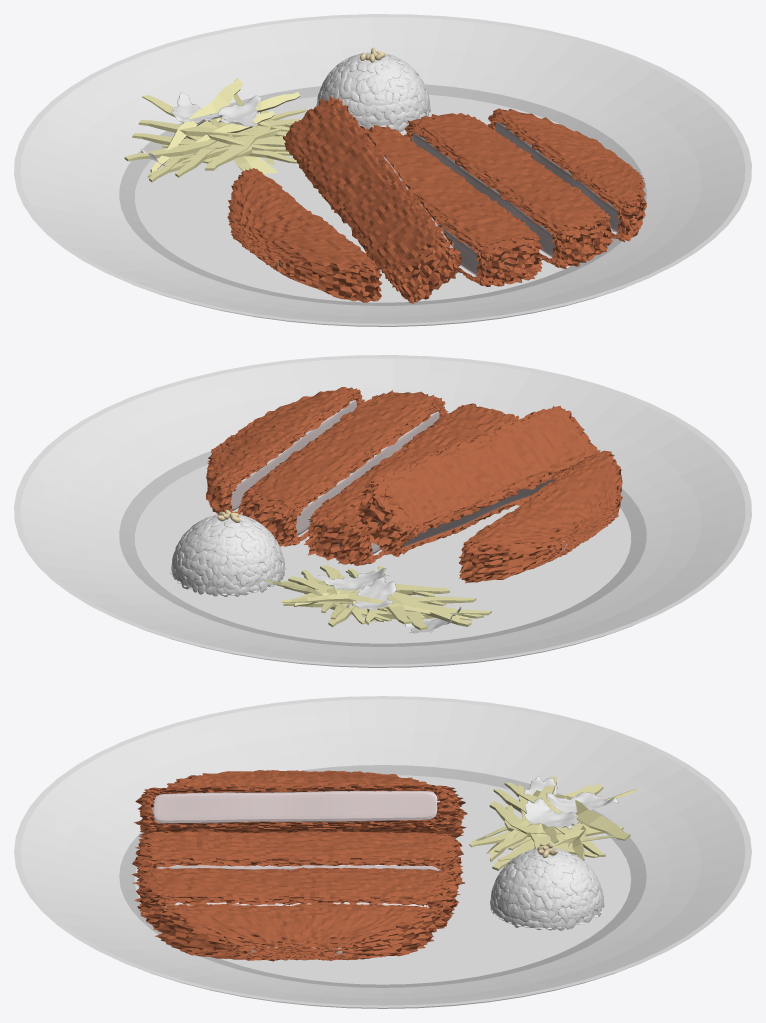
Rendered from Tonkatsu.fbx.
3 views of the same model, one above another, from view 1: azimuth 30°, elevation 25°; view 2: azimuth 150°, elevation 25°; view 3: azimuth 270°, elevation 25° (orthographic).
Parts seen in each view (by area): view 1: 원형.055, 큐브, 큐브.005, 큐브.010, 큐브.004, 큐브.009, 양파.017, 양파.016, 큐브.006, 큐브.007, 양파.018, 구체 (+3 smaller); view 2: 원형.055, 큐브, 큐브.010, 큐브.005, 큐브.004, 큐브.009, 양파.017, 큐브.006, 큐브.007, 양파.018, 구체, 큐브.001 (+2 smaller); view 3: 원형.055, 큐브.009, 큐브.005, 큐브.004, 큐브.001, 큐브, 양파.017, 큐브.010, 양파.016, 양파.018, 구체, 큐브.003 (+2 smaller).
Part boxes in pixels (left/top/right/bottom): 원형.055: left=14, top=14, right=751, bottom=326; 큐브: left=283, top=95, right=461, bottom=303; 큐브.005: left=404, top=113, right=612, bottom=268; 큐브.010: left=227, top=168, right=382, bottom=302; 큐브.004: left=366, top=125, right=543, bottom=286; 큐브.009: left=487, top=108, right=646, bottom=242; 양파.017: left=124, top=78, right=302, bottom=182; 양파.016: left=162, top=110, right=296, bottom=170; 큐브.006: left=412, top=133, right=554, bottom=256; 큐브.007: left=495, top=122, right=619, bottom=232; 양파.018: left=182, top=92, right=305, bottom=164; 구체: left=318, top=53, right=426, bottom=126; 원형.055: left=14, top=355, right=751, bottom=667; 큐브: left=347, top=406, right=600, bottom=556; 큐브.010: left=458, top=450, right=622, bottom=583; 큐브.005: left=239, top=390, right=448, bottom=546; 큐브.004: left=304, top=403, right=519, bottom=565; 큐브.009: left=206, top=387, right=364, bottom=514; 양파.017: left=279, top=565, right=491, bottom=630; 큐브.006: left=295, top=411, right=439, bottom=535; 큐브.007: left=230, top=400, right=356, bottom=510; 양파.018: left=266, top=569, right=391, bottom=624; 구체: left=172, top=517, right=281, bottom=591; 큐브.001: left=377, top=478, right=555, bottom=546; 원형.055: left=14, top=696, right=751, bottom=1008; 큐브.009: left=154, top=903, right=437, bottom=961; 큐브.005: left=134, top=867, right=458, bottom=932; 큐브.004: left=132, top=830, right=464, bottom=894; 큐브.001: left=151, top=791, right=439, bottom=823; 큐브: left=133, top=783, right=467, bottom=838; 양파.017: left=486, top=776, right=637, bottom=870; 큐브.010: left=167, top=770, right=426, bottom=787; 양파.016: left=469, top=796, right=558, bottom=861; 양파.018: left=498, top=821, right=613, bottom=861; 구체: left=494, top=853, right=602, bottom=927; 큐브.003: left=156, top=864, right=440, bottom=870.
Size of the model in its own units: 77.41 by 12.85 by 77.41.
